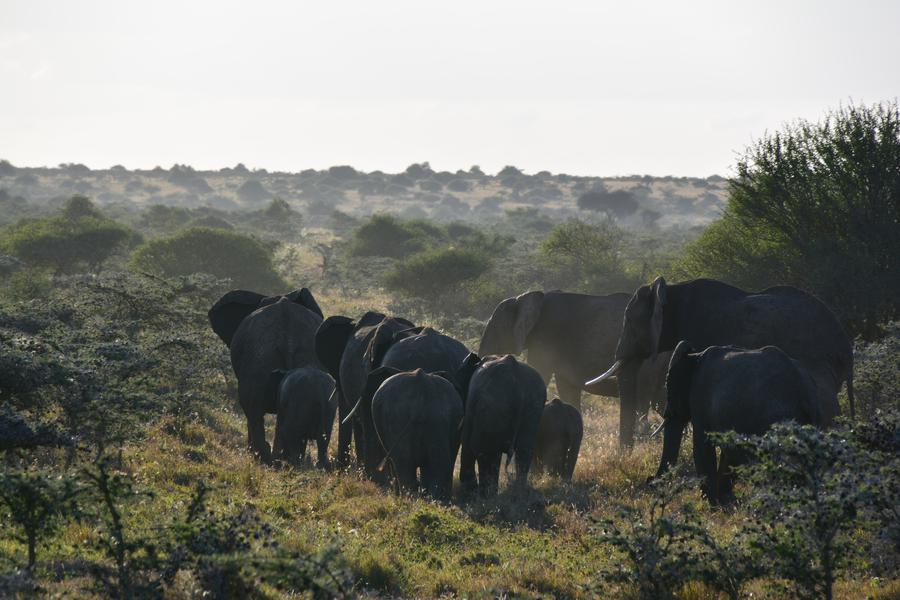elephant: (645, 351, 837, 484), (622, 274, 855, 362), (207, 283, 323, 414), (484, 293, 618, 399), (366, 369, 460, 496), (462, 351, 531, 482), (278, 364, 332, 466), (535, 396, 584, 468)
